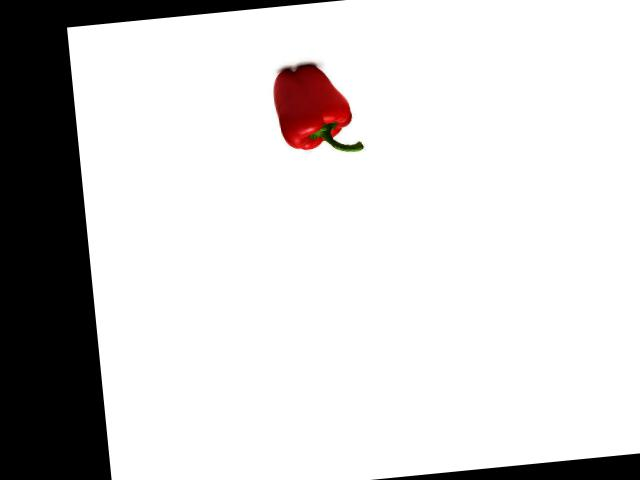bell_pepper: (266, 53, 366, 164)
